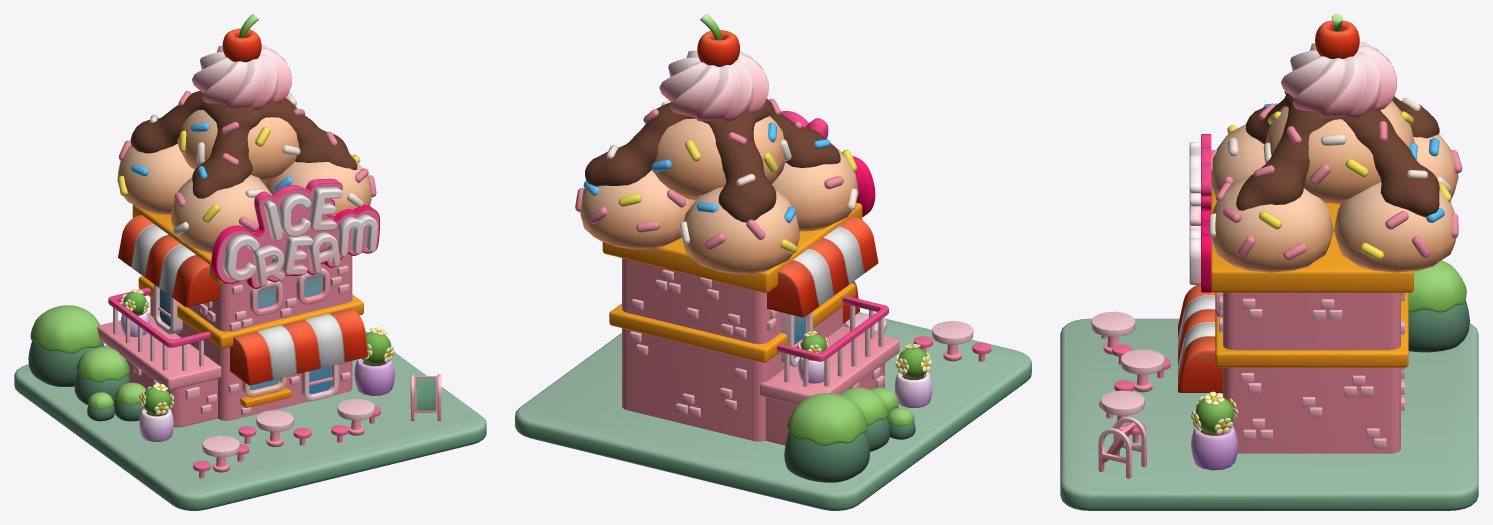
Rendered from ice_cream_shop.glb.
3 renders of one model, left to right at view 1: azimuth 30°, elevation 25°; view 2: azimuth 150°, elevation 25°; view 3: azimuth 270°, elevation 25°, orthographic. The views are drawn at different scales.
Visible parts, largest first — view 1: IceCreaShop_7; view 2: IceCreaShop_7; view 3: IceCreaShop_7.
Part boxes in pixels (left/top/right/bottom): IceCreaShop_7: left=14, top=14, right=486, bottom=510; IceCreaShop_7: left=515, top=14, right=1031, bottom=510; IceCreaShop_7: left=1060, top=14, right=1478, bottom=510.
Size of the model in its own units: 2 by 2.26 by 2.
2 materials, 2 textured.
